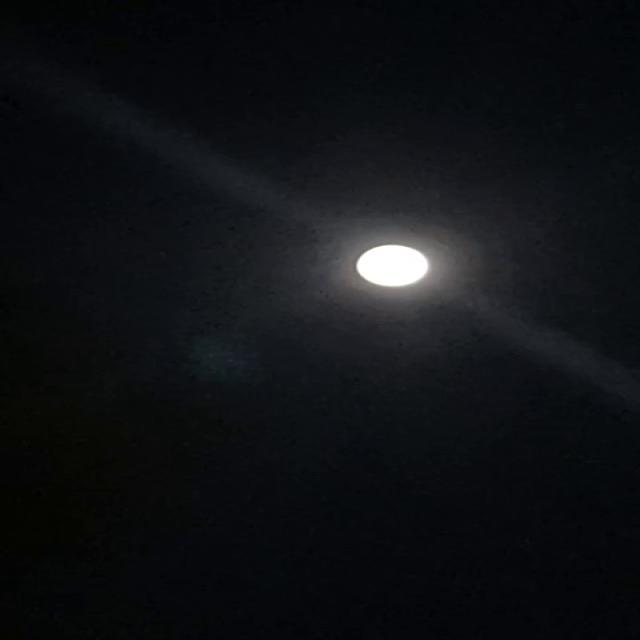moon: (347, 238, 462, 296)
